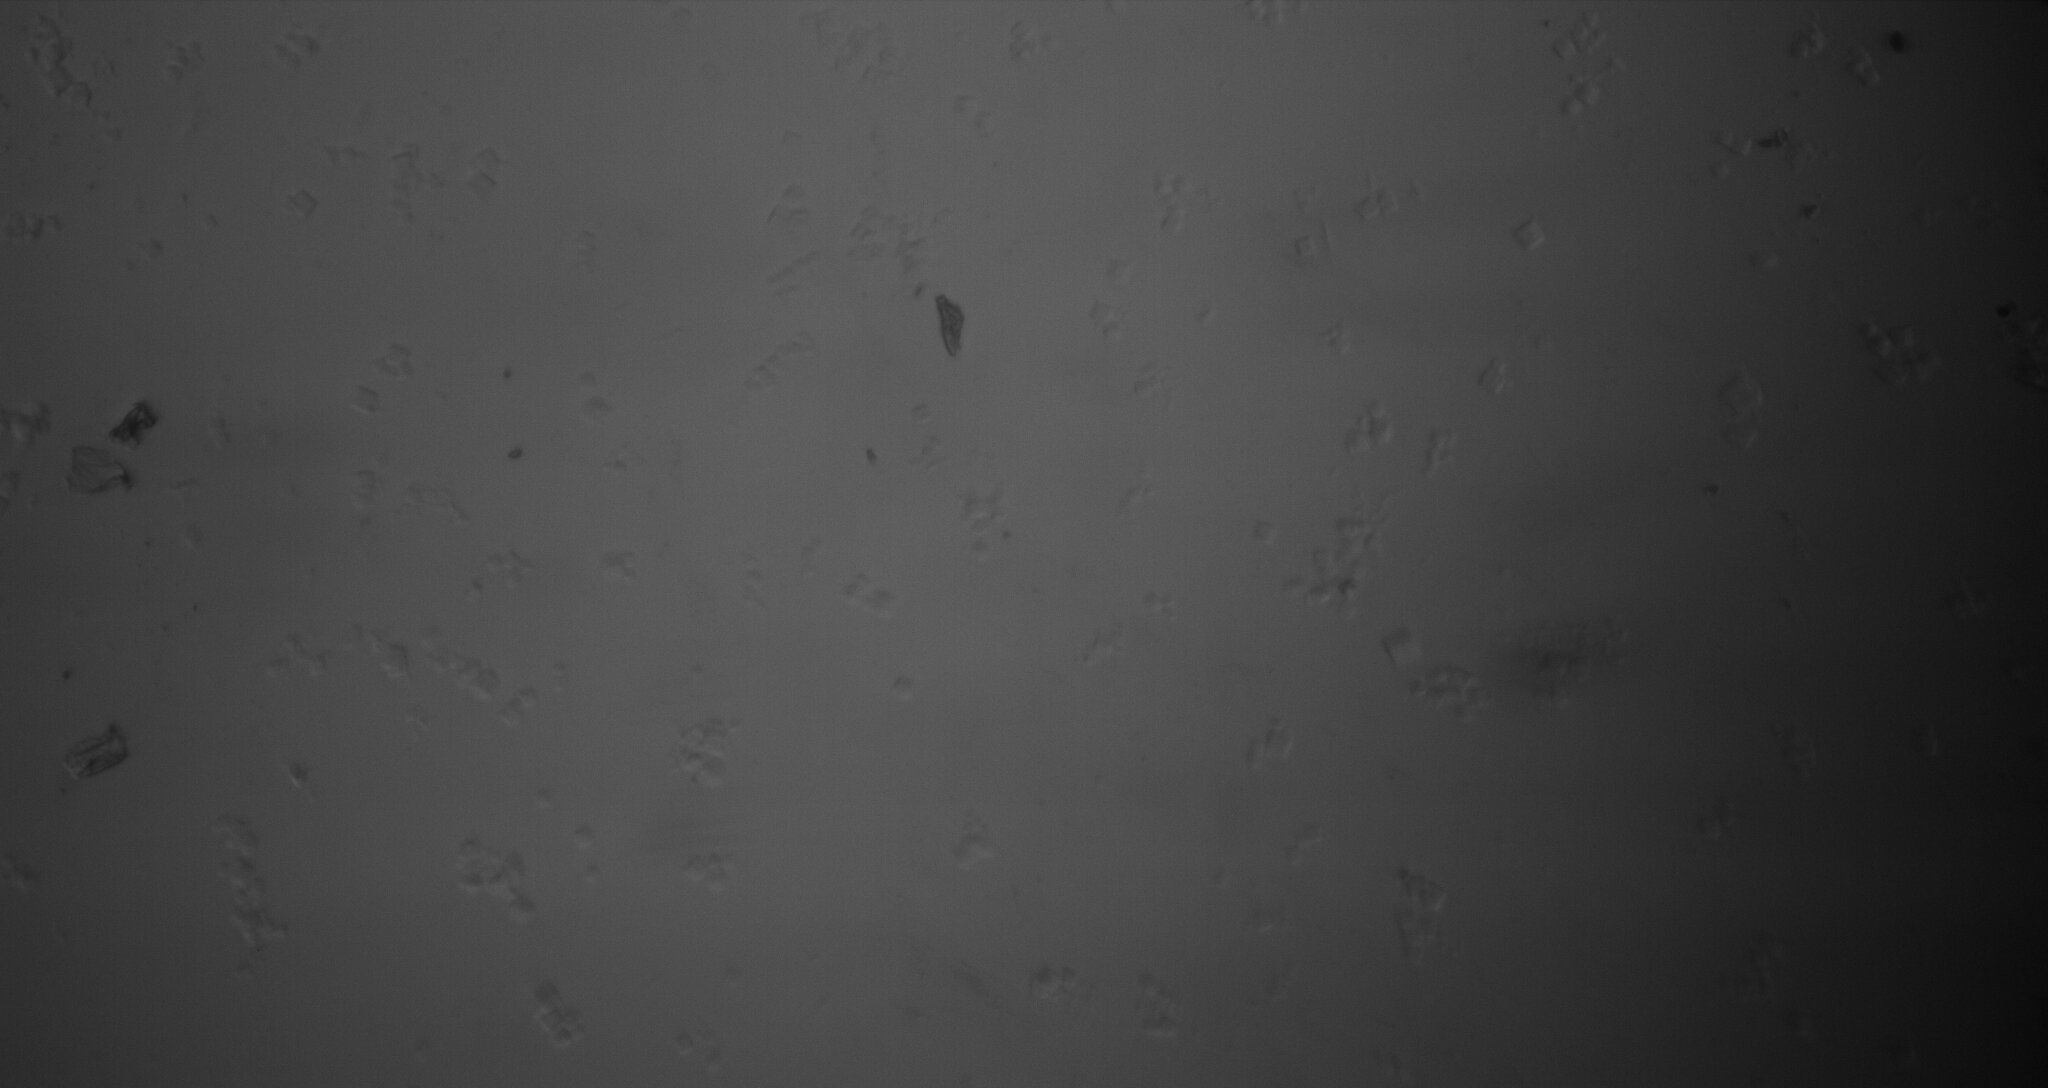square: (1711, 370, 1770, 417), (1379, 625, 1424, 667), (283, 188, 320, 219), (345, 385, 382, 413), (1510, 219, 1541, 252), (889, 671, 918, 702), (1249, 518, 1279, 545), (1288, 234, 1317, 257), (1704, 157, 1732, 180), (572, 827, 595, 850)
